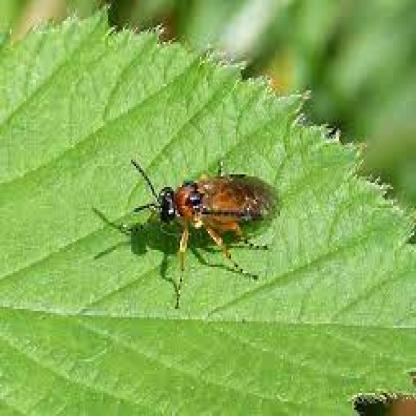sawfly: (121, 150, 288, 296)
